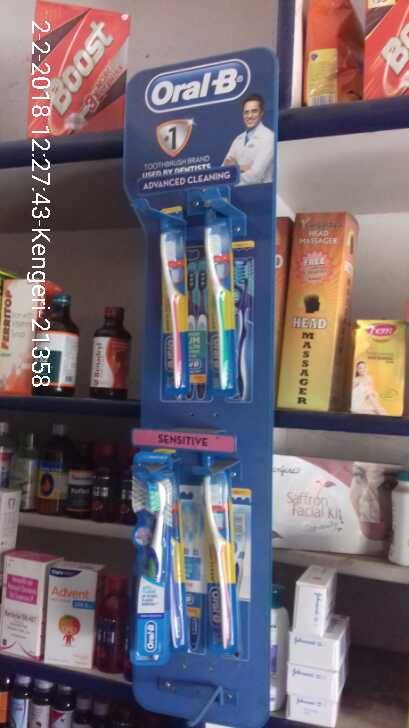oralb: (131, 448, 172, 664), (200, 457, 239, 654), (157, 206, 189, 398), (205, 211, 238, 392)
